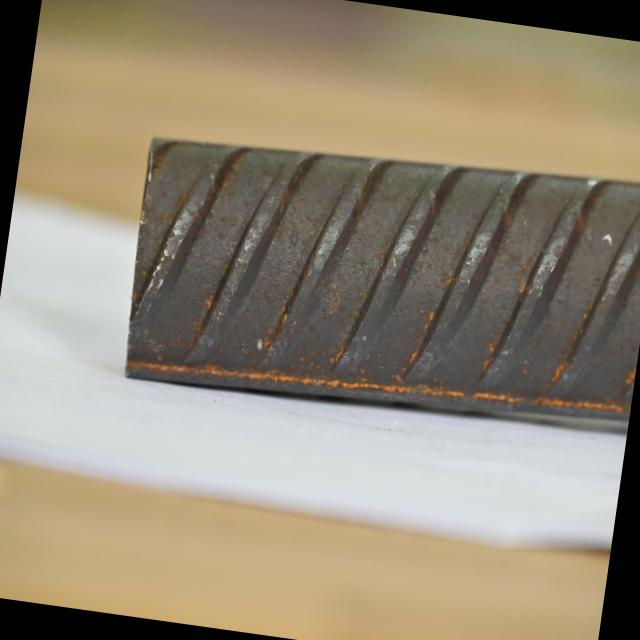ribbed bar: (113, 108, 640, 448)
